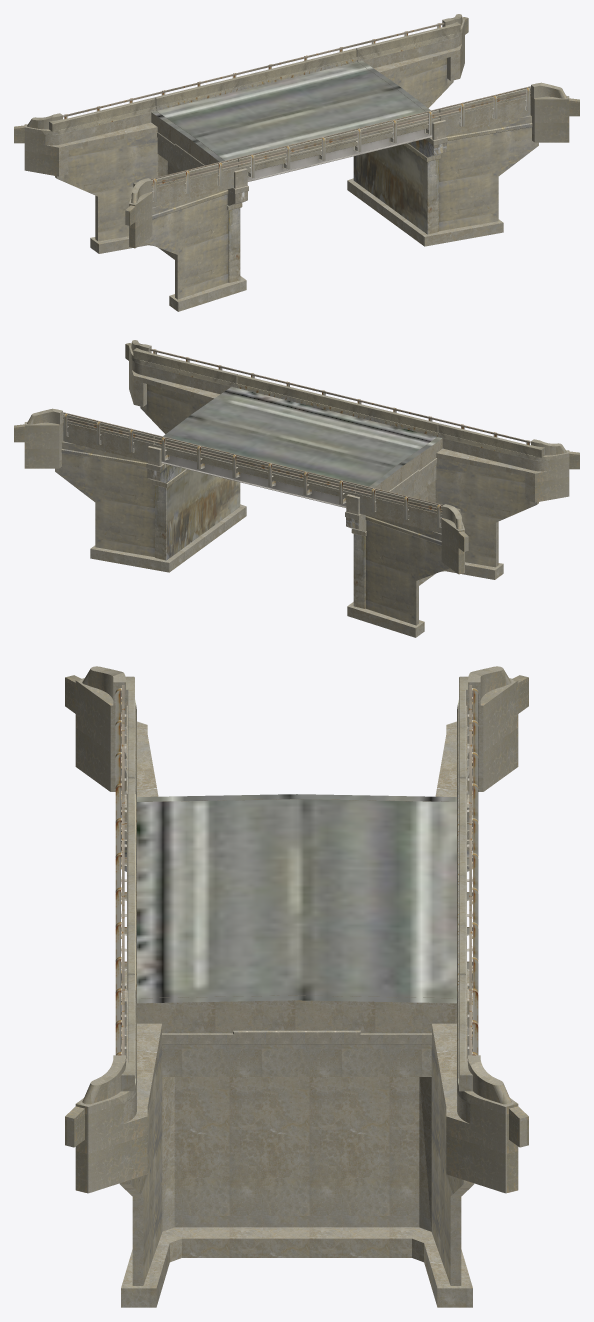
File: bridge_model.dae
The picture shows the model from 3 angles, top to bottom: view 1: azimuth 30°, elevation 25°; view 2: azimuth 150°, elevation 25°; view 3: azimuth 270°, elevation 25°; orthographic projection. The views are drawn at different scales.
Parts seen in each view (by area): view 1: abut_wing (×18), group_1 (×4), abut_F.F.___footing (×8), Steel_angle_L3x3.5x.4375LONG_RAIL (×2), Wide_flange_steel_W27x94, Steel_channel_C7x14.75LONG_RAIL; view 2: abut_wing (×18), group_1 (×4), abut_F.F.___footing (×8), Steel_angle_L3x3.5x.4375LONG_RAIL (×2), Wide_flange_steel_W27x94, Steel_channel_C7x14.75LONG_RAIL; view 3: abut_F.F.___footing (×7), group_1 (×3), abut_wing (×12), Steel_angle_L3x3.5x.4375LONG_RAIL (×2).
Part boxes in pixels (bbox=[...]): abut_wing (×18): bbox=[14, 14, 579, 299]; group_1 (×4): bbox=[155, 48, 439, 172]; abut_F.F.___footing (×8): bbox=[90, 112, 503, 311]; Steel_angle_L3x3.5x.4375LONG_RAIL (×2): bbox=[63, 22, 530, 179]; Wide_flange_steel_W27x94: bbox=[247, 128, 432, 181]; Steel_channel_C7x14.75LONG_RAIL: bbox=[151, 90, 530, 186]; abut_wing (×18): bbox=[14, 340, 579, 625]; group_1 (×4): bbox=[154, 374, 438, 498]; abut_F.F.___footing (×8): bbox=[90, 438, 503, 637]; Steel_angle_L3x3.5x.4375LONG_RAIL (×2): bbox=[63, 348, 530, 505]; Wide_flange_steel_W27x94: bbox=[161, 454, 346, 507]; Steel_channel_C7x14.75LONG_RAIL: bbox=[63, 416, 442, 512]; abut_F.F.___footing (×7): bbox=[121, 794, 472, 1307]; group_1 (×3): bbox=[127, 778, 466, 998]; abut_wing (×12): bbox=[65, 666, 528, 1285]; Steel_angle_L3x3.5x.4375LONG_RAIL (×2): bbox=[122, 685, 471, 1055].
Bounding box in the file's own units: 1181 × 522 × 347.
23 materials, 22 textured.
